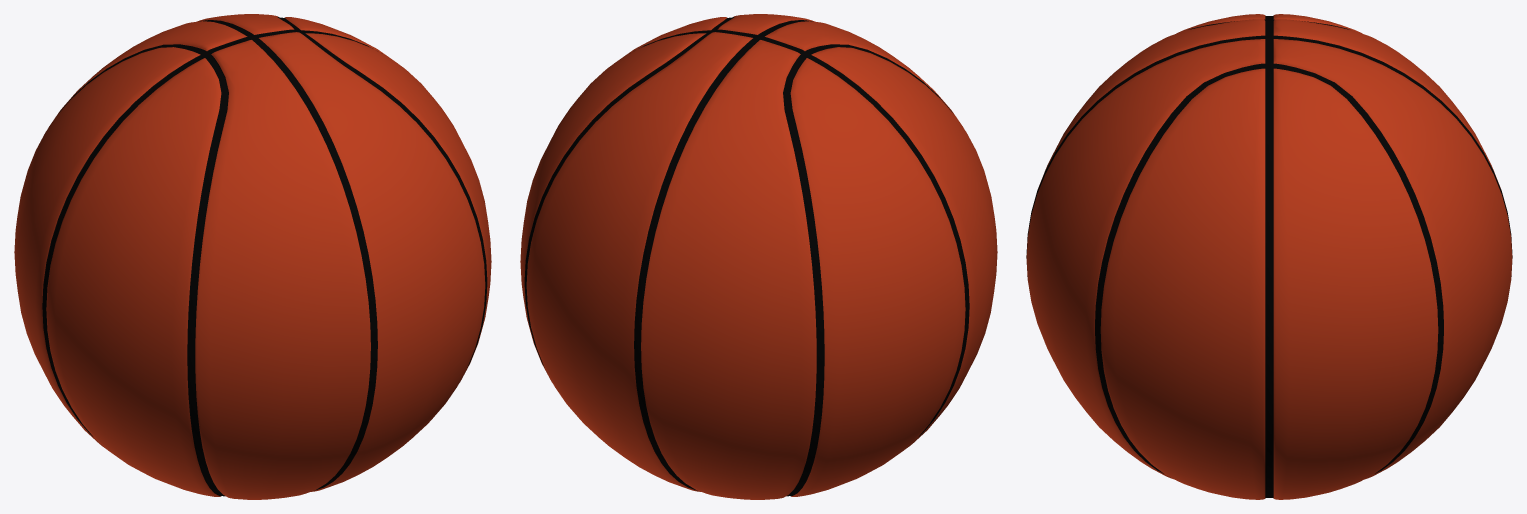
The model's file is Basket Ball.fbx.
The picture shows the model from 3 angles, left to right: view 1: azimuth 30°, elevation 25°; view 2: azimuth 150°, elevation 25°; view 3: azimuth 270°, elevation 25°; orthographic projection.
Parts seen in each view (by area): view 1: Sphere; view 2: Sphere; view 3: Sphere.
Part boxes in pixels (x1,y1,x2,y2): Sphere: [14, 14, 491, 499]; Sphere: [520, 14, 997, 499]; Sphere: [1026, 14, 1512, 499].
Size of the model in its own units: 196 by 198 by 198.
